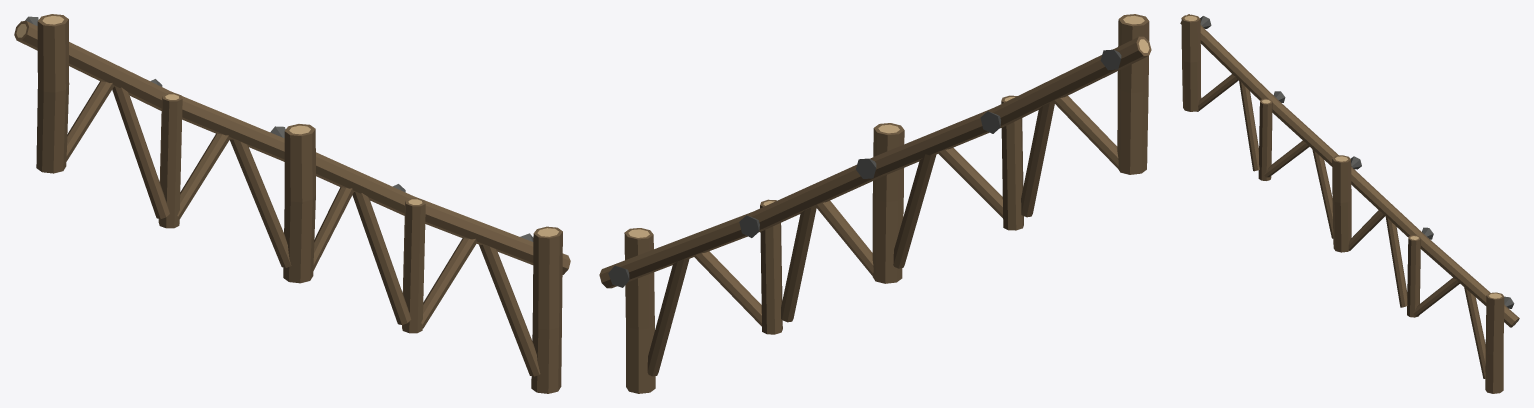
File: rpgpp_ag_wall_platform_stairs_02a_4m_handrail_02.fbx
The picture shows the model from 3 angles, left to right: view 1: azimuth 30°, elevation 25°; view 2: azimuth 150°, elevation 25°; view 3: azimuth 330°, elevation 25°; orthographic projection. The views are drawn at different scales.
Parts seen in each view (by area): view 1: rpgpp_ag_wall_platform_stairs_02a_4m_handrail_02; view 2: rpgpp_ag_wall_platform_stairs_02a_4m_handrail_02; view 3: rpgpp_ag_wall_platform_stairs_02a_4m_handrail_02.
Boxes of the visible parts, x1,y1,x2,y2 form: rpgpp_ag_wall_platform_stairs_02a_4m_handrail_02: [14, 14, 570, 393]; rpgpp_ag_wall_platform_stairs_02a_4m_handrail_02: [599, 14, 1151, 393]; rpgpp_ag_wall_platform_stairs_02a_4m_handrail_02: [1180, 14, 1519, 393].
Bounding box in the file's own units: 6.23 × 5.28 × 0.6083.
